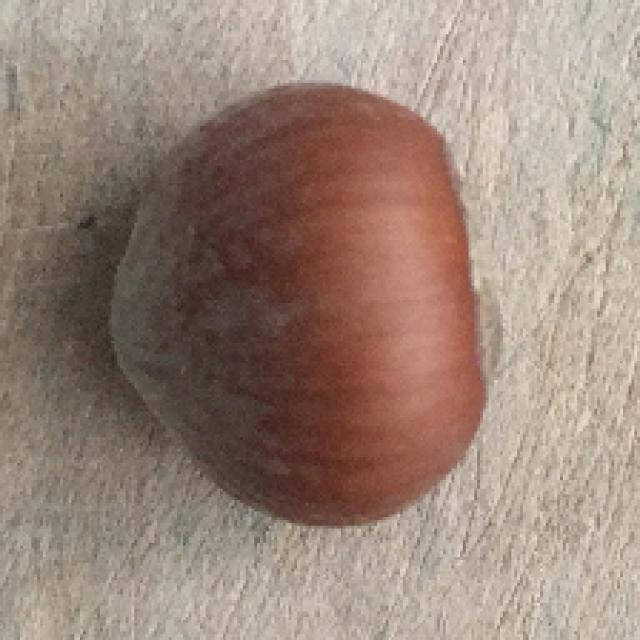qualityHazelnut: (114, 84, 500, 529)
